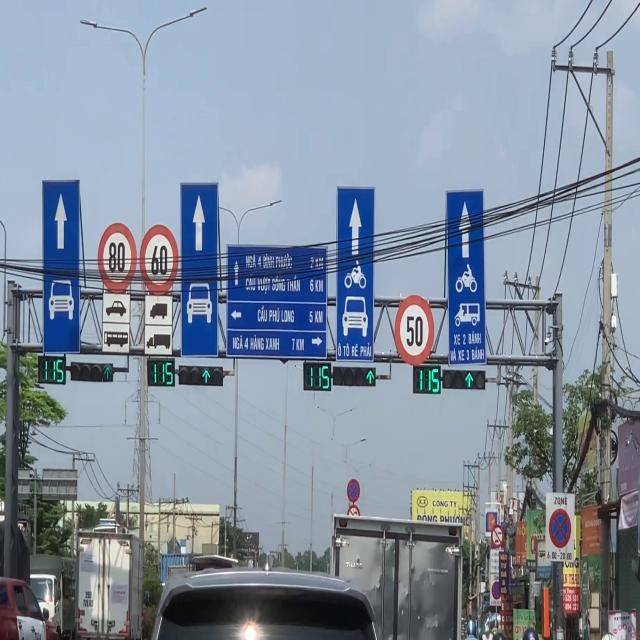Cam dung va do: (549, 508, 571, 549), (347, 478, 360, 502), (492, 581, 502, 600)
Toc do toi da: (394, 294, 434, 366), (139, 224, 179, 296), (98, 223, 137, 294)
